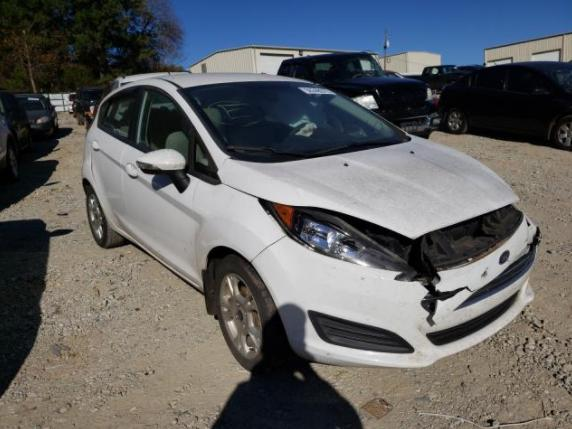Back-door: (91, 85, 145, 242)
Back-wheel: (85, 189, 123, 248)
Back-window: (101, 90, 139, 141)
Fender: (193, 179, 285, 289)
Front-bumper: (251, 212, 543, 369)
Front-door: (122, 85, 201, 286)
Front-wheel: (213, 257, 289, 373)
Front-window: (140, 91, 189, 160), (193, 132, 215, 175)
Grille: (467, 248, 534, 303)
Headlight: (270, 205, 411, 272)
Hood: (217, 133, 520, 240)
Mirror: (136, 149, 190, 194)
Quarter-panel: (80, 125, 115, 226)
Rocker-panel: (110, 224, 204, 296)
Roof: (147, 72, 311, 91)
Windshield: (180, 81, 403, 162)
